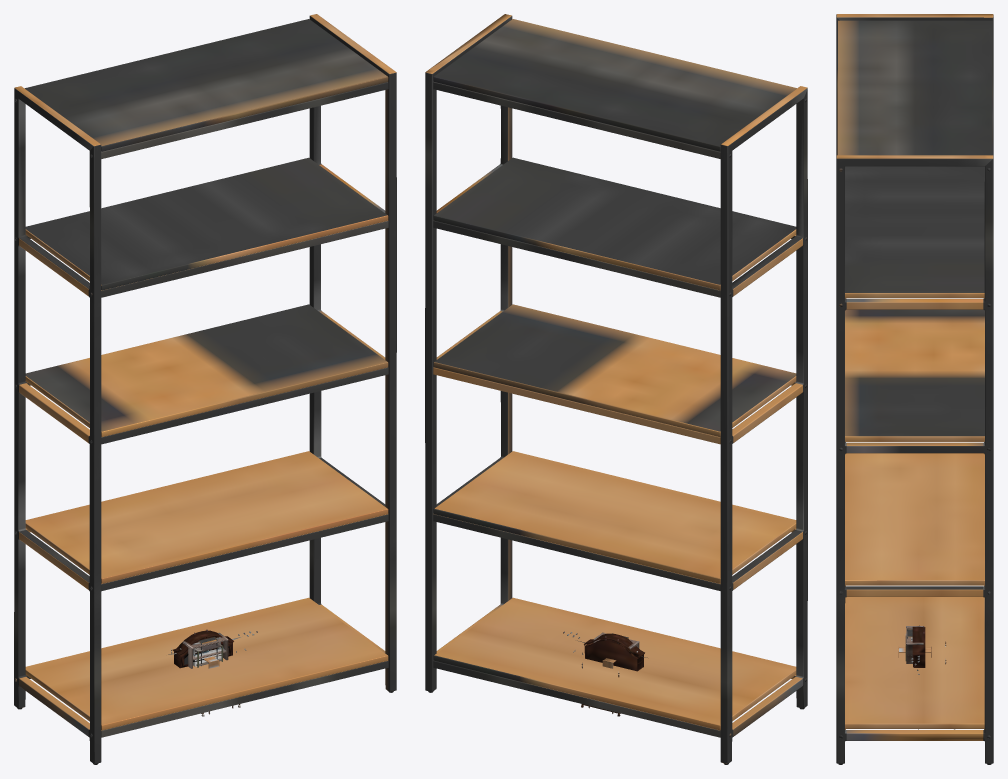
Rendered from furniture.glb.
3 renders of one model, left to right at view 1: azimuth 30°, elevation 25°; view 2: azimuth 150°, elevation 25°; view 3: azimuth 270°, elevation 25°, orthographic. The views are drawn at different scales.
Visible parts, largest first — view 1: steel_frame_shelves_01, vintage_cabinet_01; view 2: steel_frame_shelves_01, vintage_cabinet_01; view 3: steel_frame_shelves_01, vintage_cabinet_01.
Boxes of the visible parts, x1,y1,x2,y2 form: steel_frame_shelves_01: [14, 14, 396, 764]; vintage_cabinet_01: [173, 630, 233, 668]; steel_frame_shelves_01: [425, 14, 807, 764]; vintage_cabinet_01: [584, 633, 644, 671]; steel_frame_shelves_01: [836, 14, 993, 764]; vintage_cabinet_01: [912, 626, 925, 667].
Size of the model in its own units: 10.97 by 21.41 by 5.02.
Materials: 1 (1 with a texture image).
